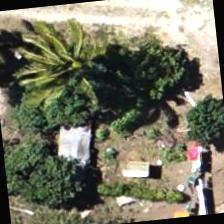Kelapa_Sawit: (11, 14, 110, 112)
